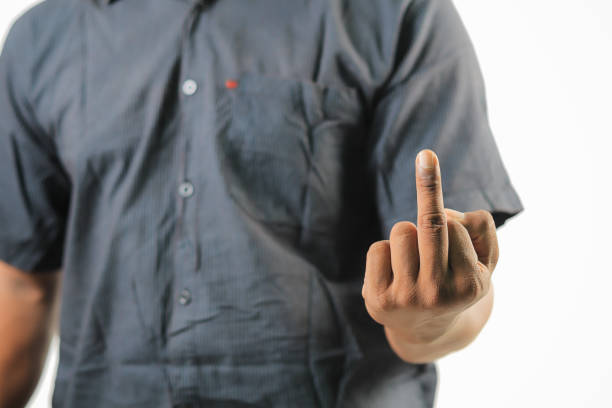insulting_gesture: (361, 144, 503, 369)
